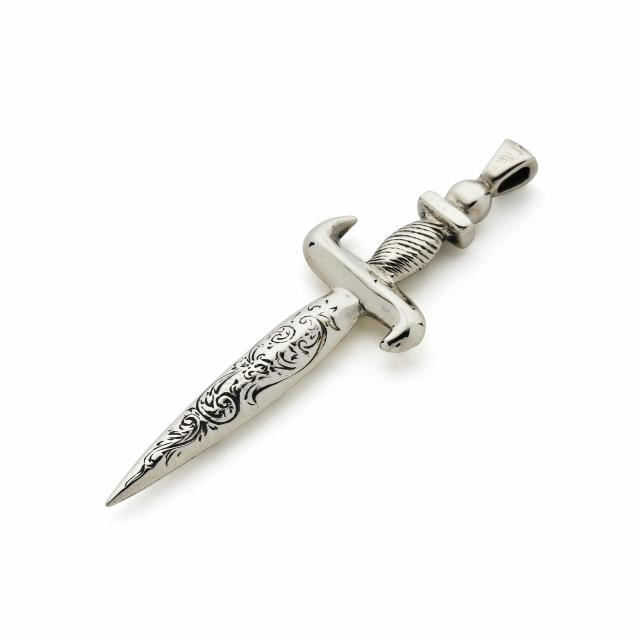Gun: (105, 134, 540, 516)
